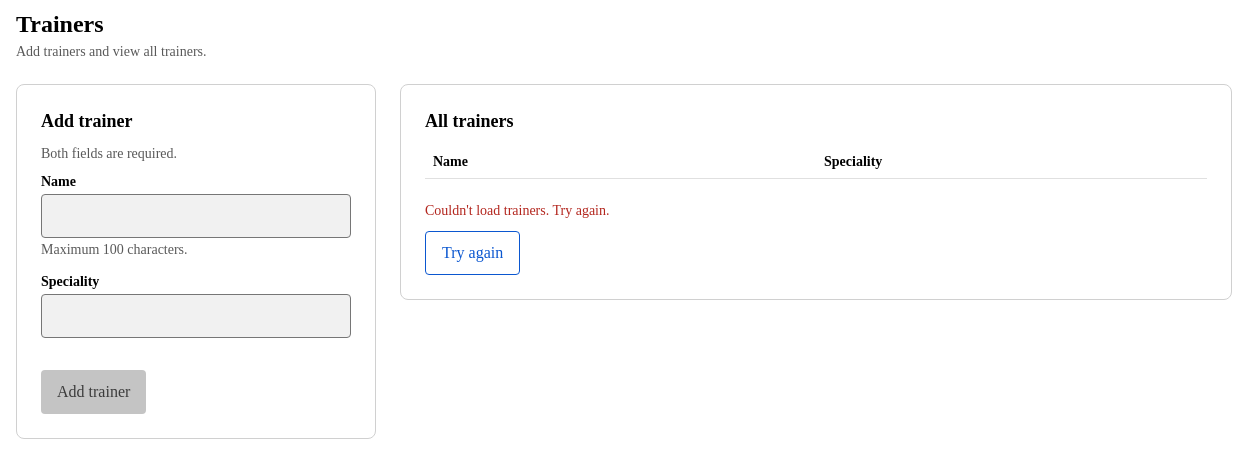
Test case: Trainers page (FIT-941 T2) › Trainers / Load Error (AC-005, AC-006, AC-007) › AC-006: a successful empty retry shows Trainers / Empty
Click the button "Try again": (473, 253) [425,231,520,275]
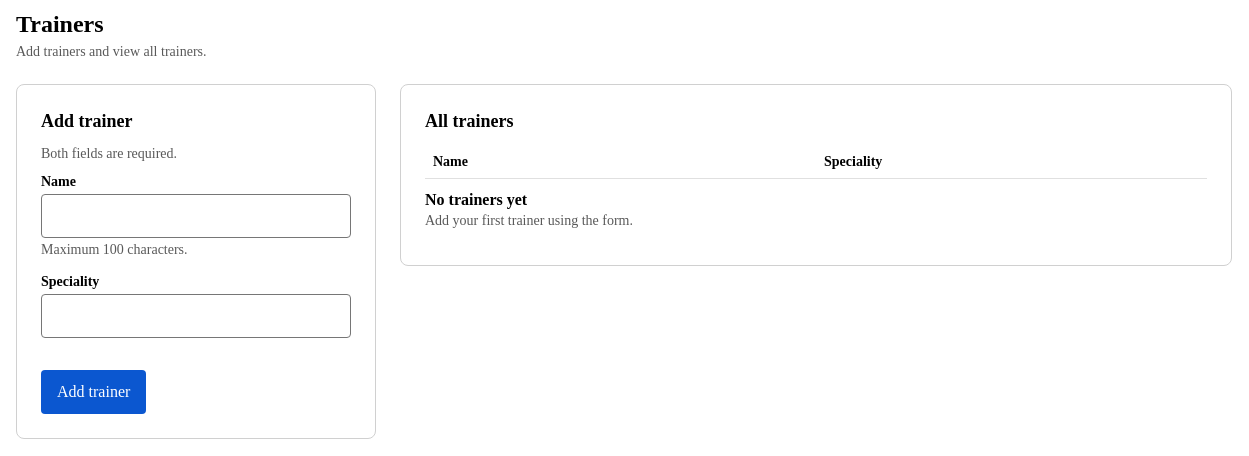
Result: the text "No trainers yet" is shown at [425,191,527,208]
